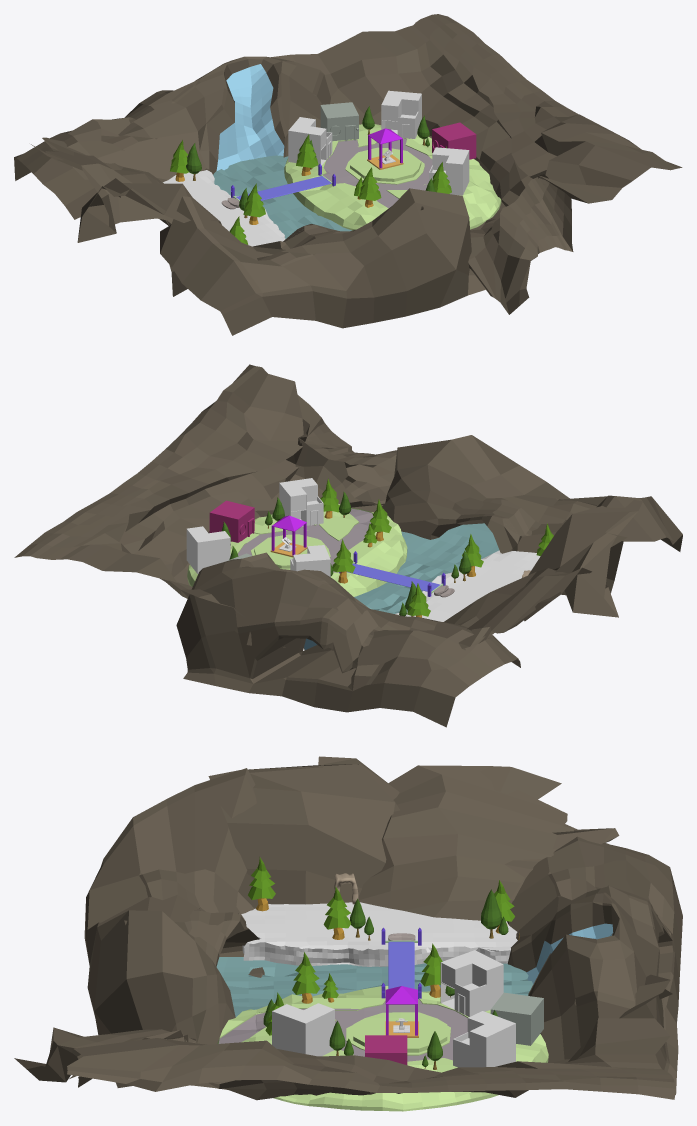
Rendered from Cena3-Cidade-Versao-1602.fbx.
The picture shows the model from 3 angles, top to bottom: view 1: azimuth 30°, elevation 25°; view 2: azimuth 150°, elevation 25°; view 3: azimuth 270°, elevation 25°; orthographic projection. The views are drawn at different scales.
Parts seen in each view (by area): view 1: Plane.026, Plane.024, Plane.025, Plane.002, Plane.027, Plane.023, Plane.028, Plane.012, Plane.015, Plane.011, Plane.014, Plane.013 (+4 smaller); view 2: Plane.025, Plane.026, Plane.024, Plane.027, Plane.002, Plane.023, Plane.028, Plane.011, Plane.012, Plane.013, Plane.015, Plane.006 (+1 smaller); view 3: Plane.027, Plane.024, Plane.026, Plane.025, Plane.002, Plane.028, Plane.023, Plane.015, Plane.012, Plane.011, Plane.014, Plane.006 (+7 smaller).
Boxes of the visible parts, x1,y1,x2,y2 form: Plane.026: (271,14,682,314); Plane.024: (160,188,485,335); Plane.025: (14,56,330,219); Plane.002: (284,124,501,230); Plane.027: (31,137,221,242); Plane.023: (213,155,351,238); Plane.028: (163,170,285,246); Plane.012: (381,90,421,138); Plane.015: (288,117,332,166); Plane.011: (429,147,469,195); Plane.014: (320,102,358,141); Plane.013: (432,122,476,159); Plane.025: (176,552,520,727); Plane.026: (14,364,396,647); Plane.024: (382,435,682,595); Plane.027: (443,499,642,650); Plane.002: (187,504,407,596); Plane.023: (354,523,499,613); Plane.028: (395,550,540,621); Plane.011: (279,478,323,526); Plane.012: (186,526,230,573); Plane.013: (209,500,254,542); Plane.015: (290,545,330,576); Plane.006: (347,563,440,591); Plane.027: (208,756,619,920); Plane.024: (84,768,264,1089); Plane.026: (14,974,676,1100); Plane.025: (507,836,682,1094); Plane.002: (217,986,548,1111); Plane.028: (241,902,517,966); Plane.023: (216,957,533,1017); Plane.015: (440,950,503,1016); Plane.012: (453,1011,515,1067); Plane.011: (272,1003,334,1056); Plane.014: (490,992,543,1045); Plane.006: (388,941,414,988).
Bounding box in the file's own units: 19230 × 5320 × 17676.
